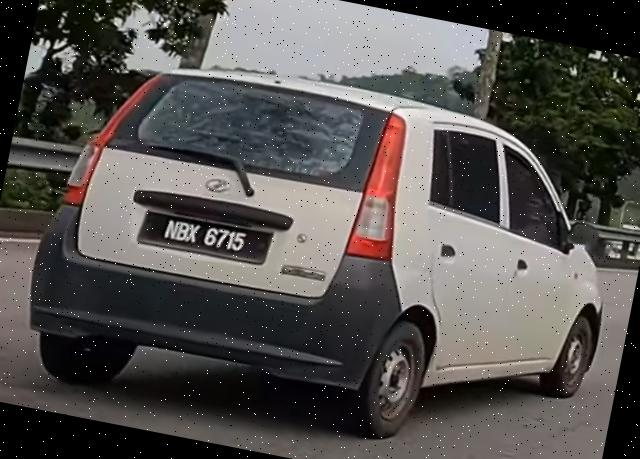License_Plate: (137, 204, 275, 268)
car: (12, 31, 638, 459)
